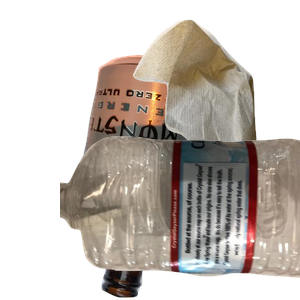glass: (99, 140, 300, 300)
metal: (73, 52, 263, 232)
plastic: (60, 134, 300, 300)
trash: (131, 17, 300, 197)
